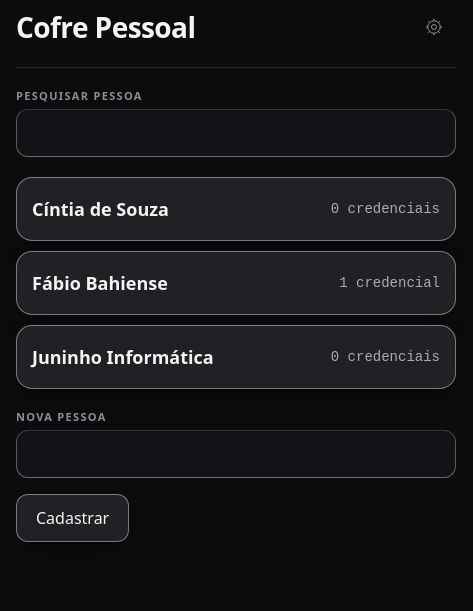
Test: PeopleScreen › não deixa cadastrar com o nome em branco
Click the button "Cadastrar": [73, 518] box [16,494,129,542]
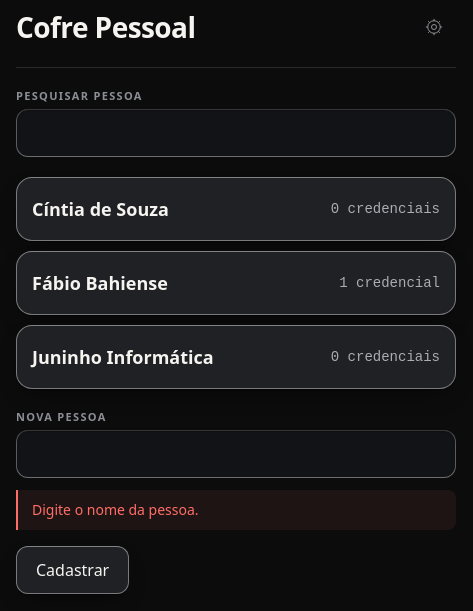
Check: the message shows "Digite o nome", box [32,500,199,519]
